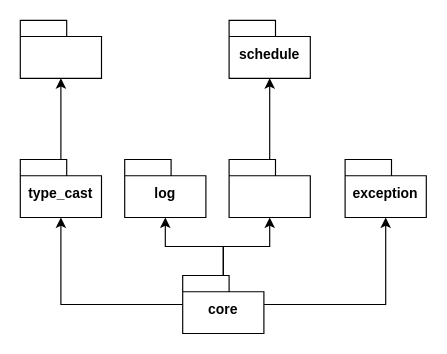
Some shapes in this 447 by 354 pixel diagram are drawn without their labels. Here are the shapes that lost their labels. From the top down, the centre of each, then its label:
At (x=60, y=48): "config".
At (x=269, y=187): "thread".
